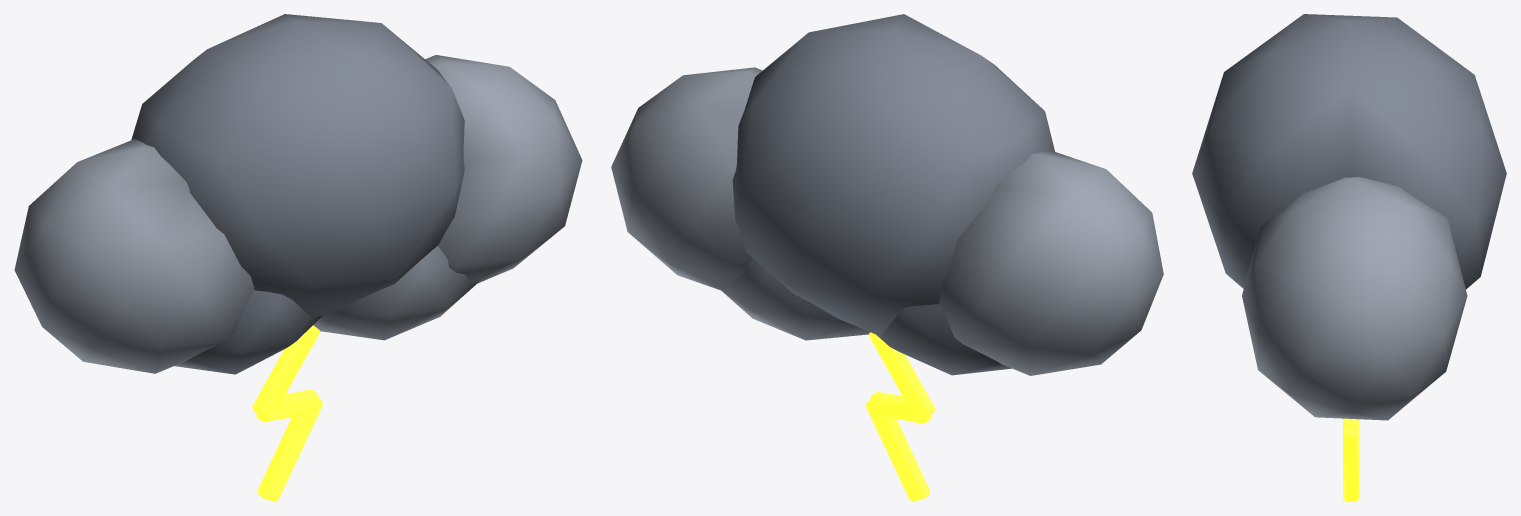
File: bl_cloud.glb
The picture shows the model from 3 angles, left to right: view 1: azimuth 30°, elevation 25°; view 2: azimuth 150°, elevation 25°; view 3: azimuth 270°, elevation 25°; orthographic projection. The views are drawn at different scales.
Visible parts, largest first — view 1: storm_cloud; view 2: storm_cloud; view 3: storm_cloud.
Part boxes in pixels (x1=…): storm_cloud: x1=14, y1=14, x2=582, y2=501; storm_cloud: x1=611, y1=14, x2=1163, y2=501; storm_cloud: x1=1192, y1=14, x2=1506, y2=501.
Bounding box in the file's own units: 1.97 × 1.67 × 0.9705.
